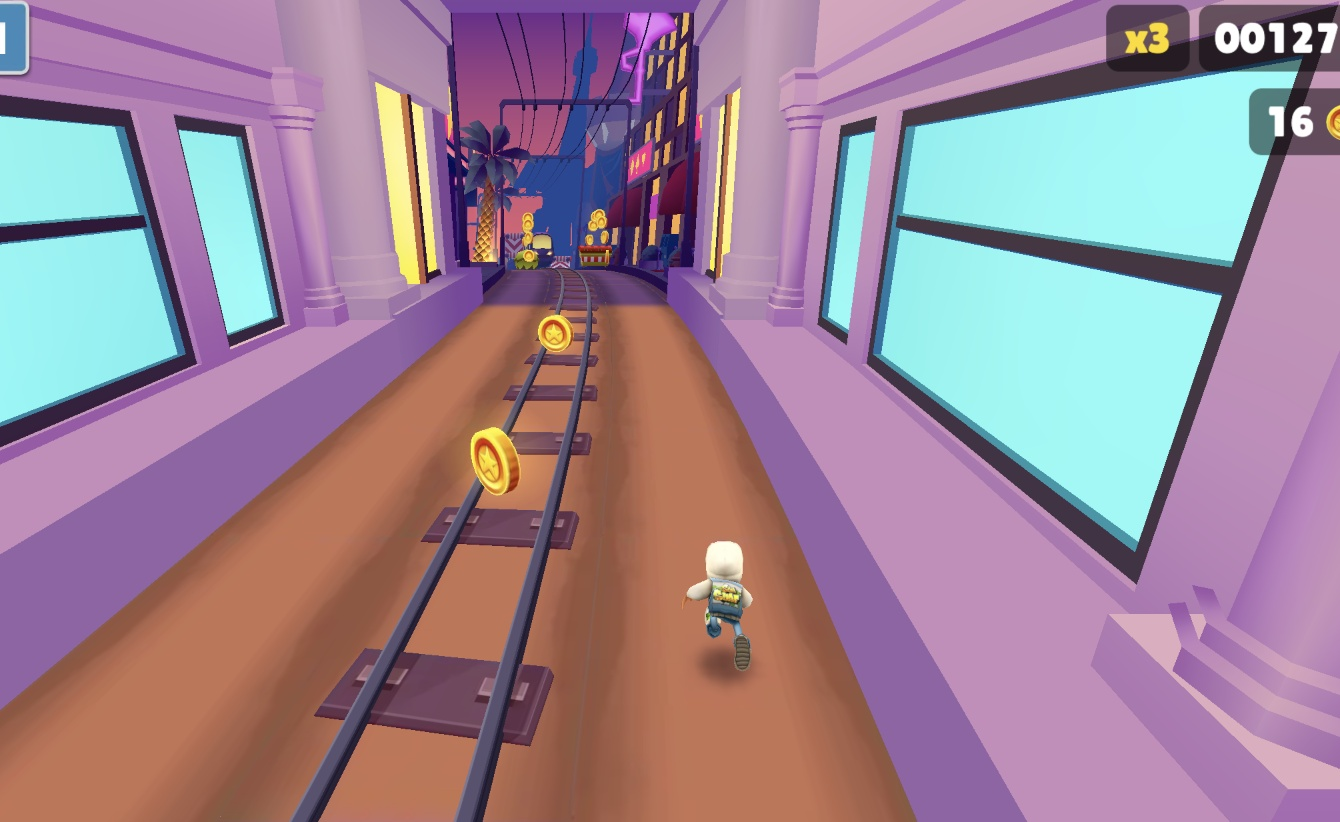bush: (514, 249, 538, 269)
ground_barrier: (578, 244, 611, 267), (550, 252, 571, 268)
overhead_barrier: (504, 231, 525, 257)
train: (526, 232, 553, 256)
